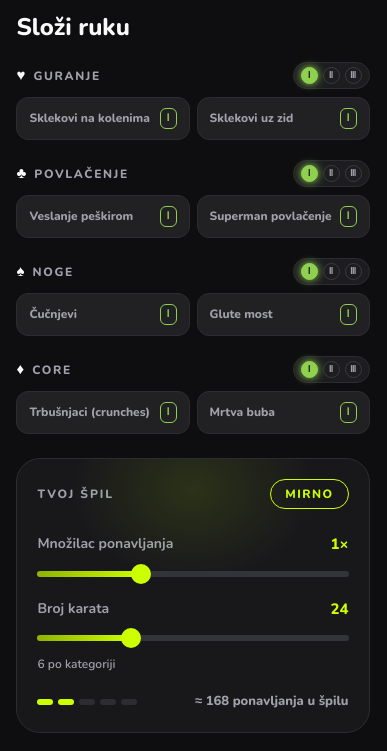
CustomSetup › intenzitet tag i procena reps-a se menjaju sa slajderima (spec §9 koraci 0.25/4)
This screenshot has width=387, height=751.
Expected: the text "MIRNO" is shown, [270, 479, 348, 509]
Set the slider labelled "Množilac ponavljanja 1×" to "2" at (105, 544), box [38, 533, 349, 584]
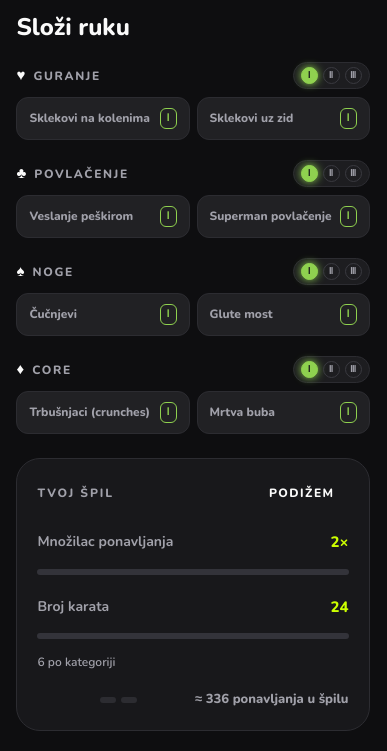
Set the slider labelled "Broj karata 24 6 po kategoriji" to "52" at (193, 633), box [38, 596, 349, 670]
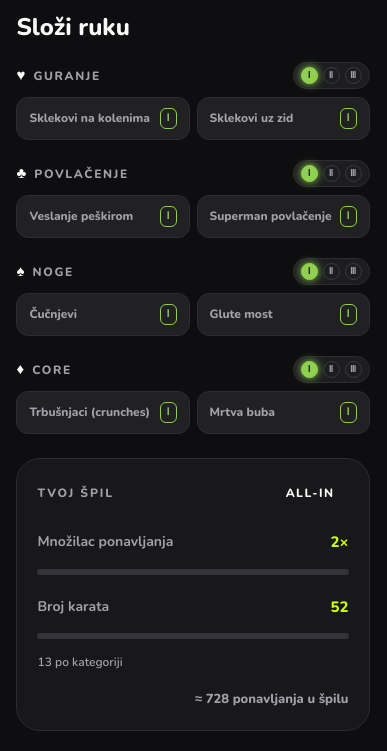
Expected: the text "ALL-IN" is shown, [286, 485, 334, 501]
Expected: the text "≈ 728 ponavljanja u špilu" is shown, [195, 690, 349, 710]
